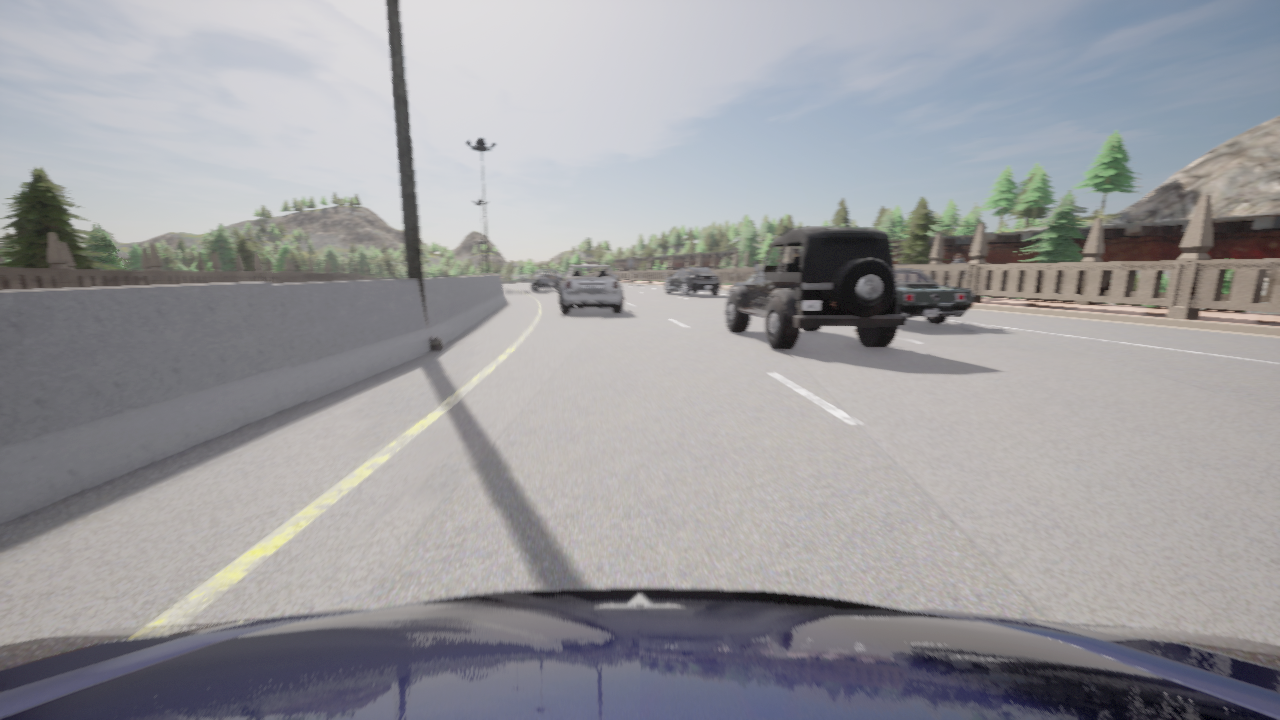cyclist: (0, 588, 1279, 719), (725, 228, 906, 349), (895, 269, 973, 324), (557, 265, 622, 314), (665, 267, 720, 296), (530, 269, 561, 292)
pedestrian: (947, 254, 966, 285)
